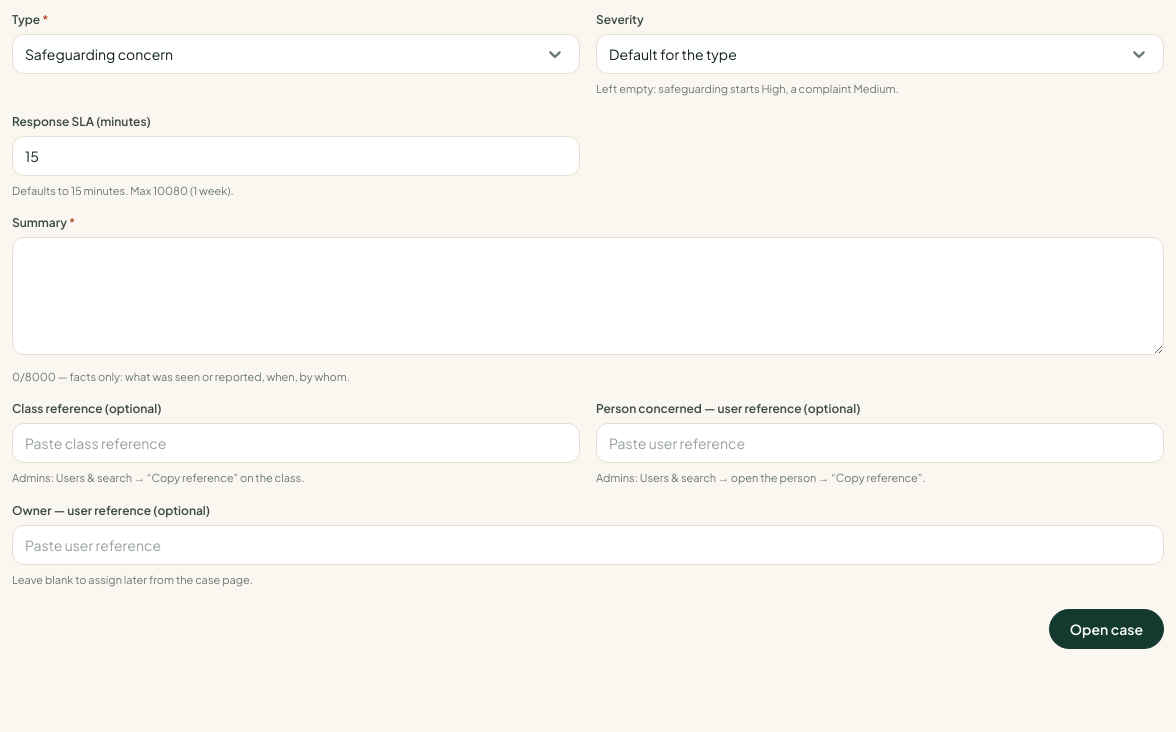
CaseCreateForm errors go to toasts › shows a failed open-case request as an error toast, not inline
Type "Learner disclosed something concerning in class." into the text box labelled "Summary*" at coordinates (588, 296), box [12,237,1164,355]
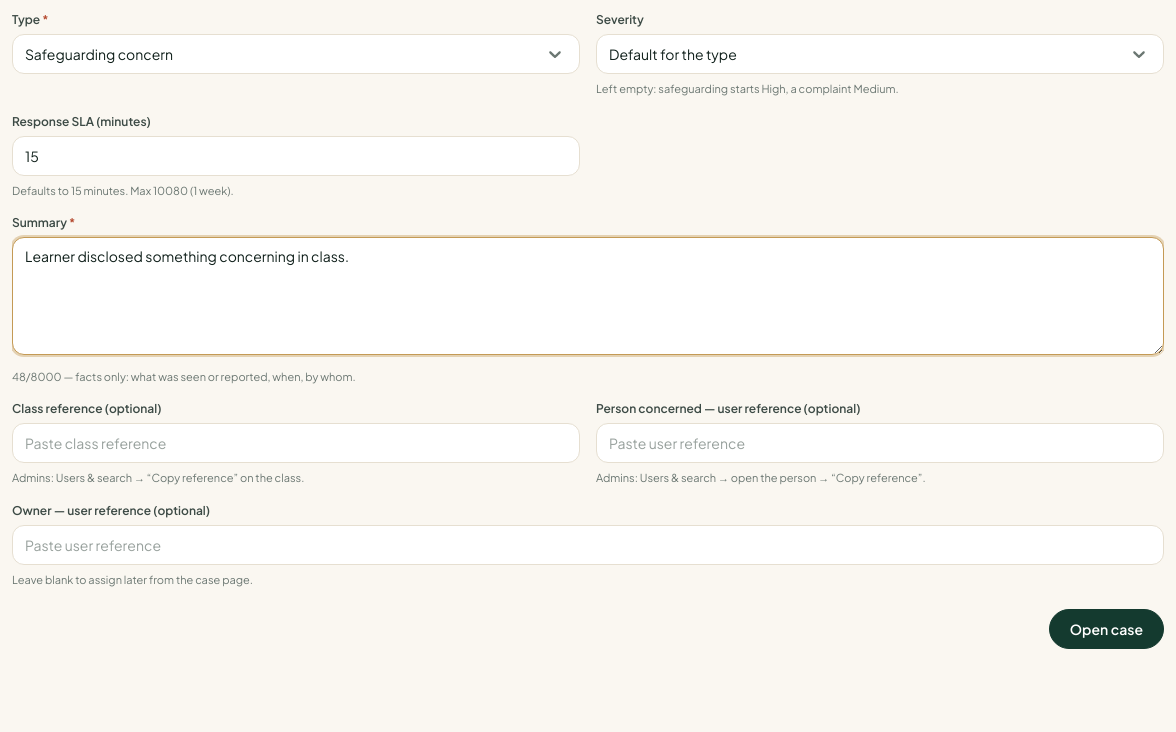
Click the button "Open case" at coordinates (1106, 629), box [1049,609,1164,649]
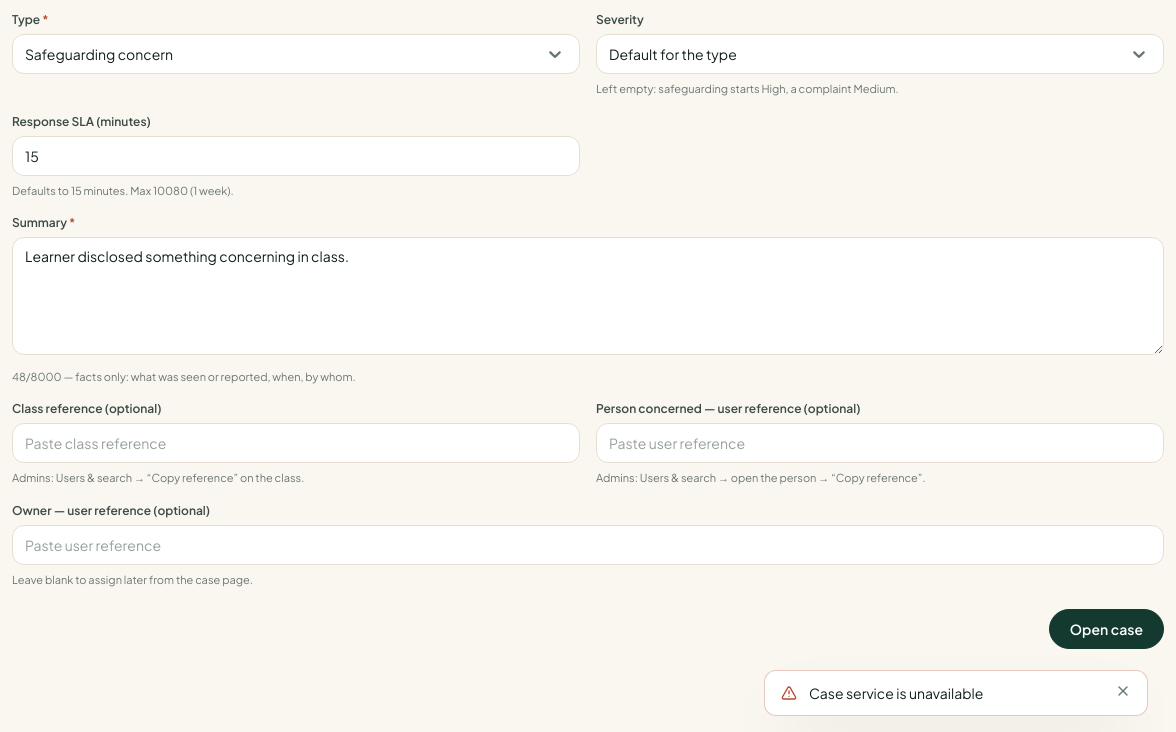
Expected: the text "Case service is unavailable" is shown once, [809,684,983,702]
